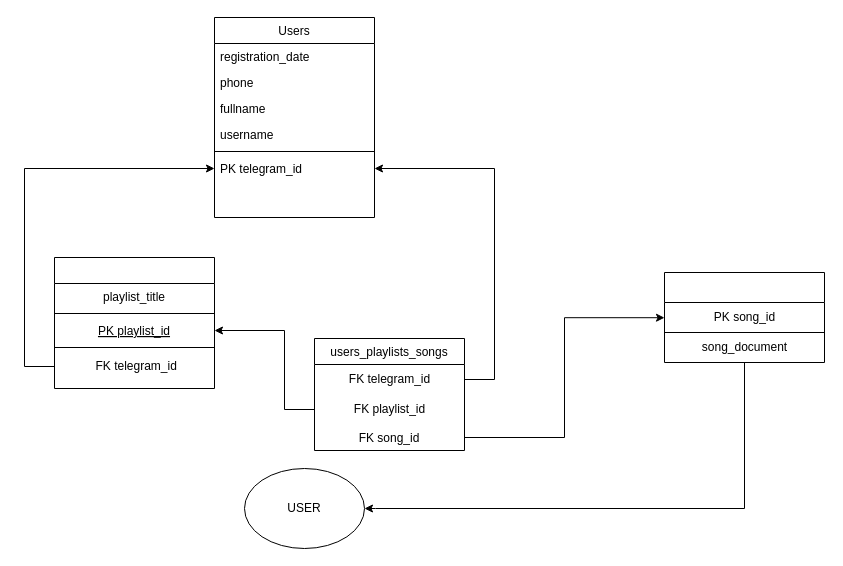
The diagram is 843 pixels wide and 566 high, and some of its shapes have lost their labels. The shapes that lost their labels are listed below. From the top down, each one's box as (x1, y1, x2, y2) in pixels, then its label:
(54, 256, 214, 388): Playlists
(664, 272, 824, 362): Songs nosql
